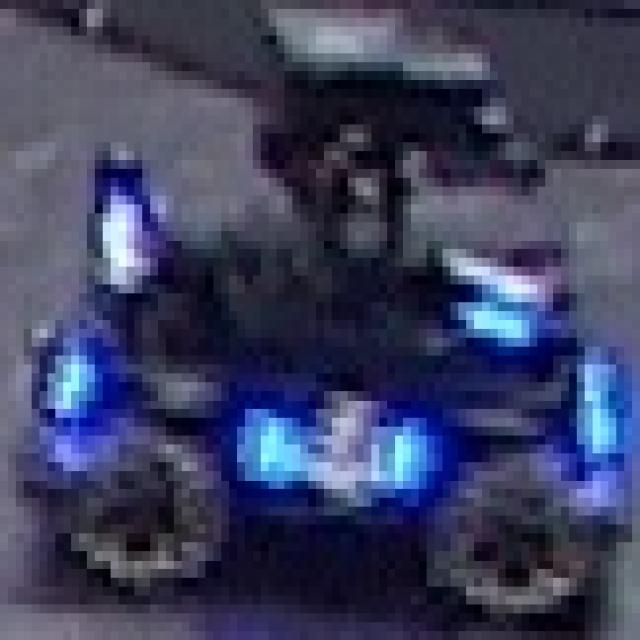B4: (229, 382, 435, 507)
